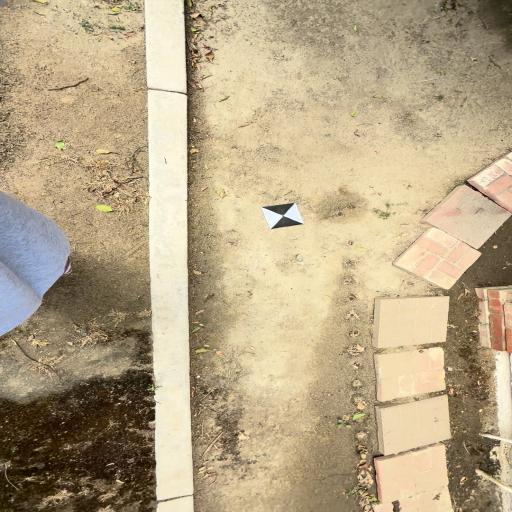target: (261, 204, 304, 228)
